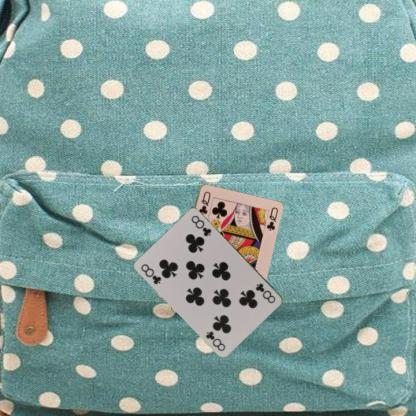8c: (253, 280, 277, 305), (139, 261, 163, 286)
Qc: (196, 188, 212, 216)
